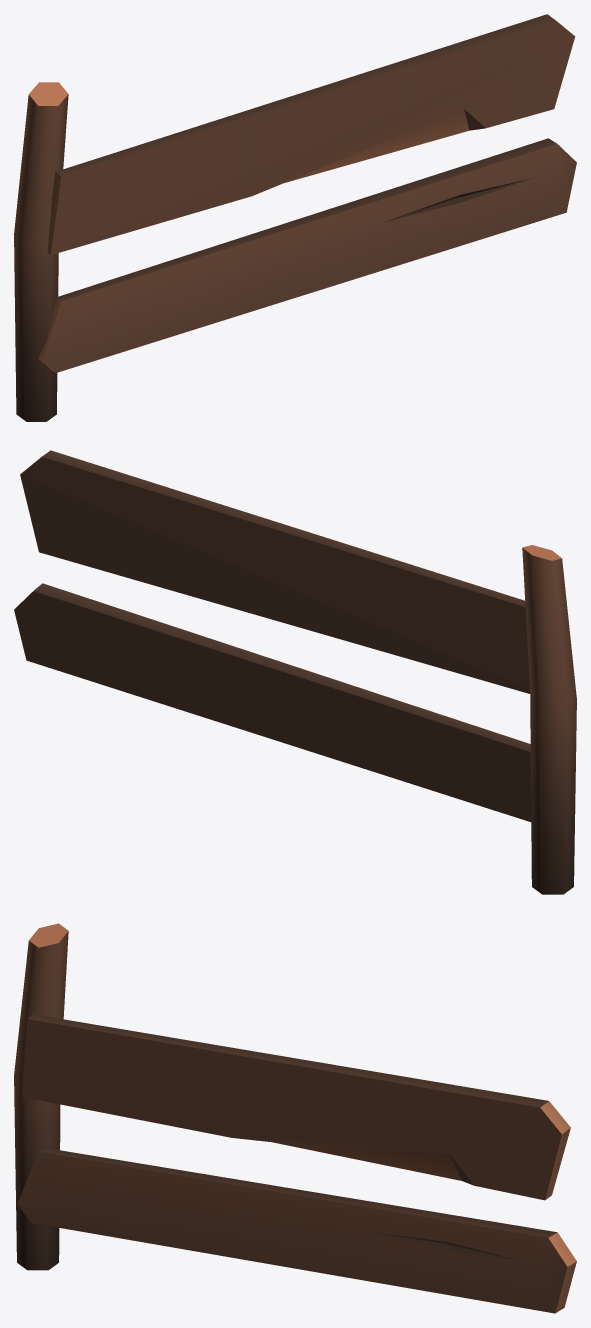
File: Fence_1C_Part_1.fbx
3 views of the same model, one above another, from view 1: azimuth 30°, elevation 25°; view 2: azimuth 150°, elevation 25°; view 3: azimuth 330°, elevation 25° (orthographic). The views are drawn at different scales.
Parts seen in each view (by area): view 1: Fence_1C_Part_1; view 2: Fence_1C_Part_1; view 3: Fence_1C_Part_1.
Part boxes in pixels (x1,y1,x2,y2): Fence_1C_Part_1: [14, 14, 576, 421]; Fence_1C_Part_1: [14, 450, 576, 894]; Fence_1C_Part_1: [14, 923, 576, 1313].
Bounding box in the file's own units: 211 × 120 × 19.66.
